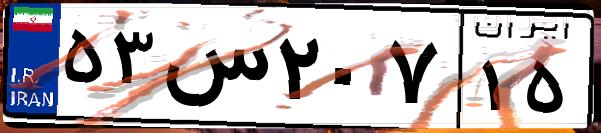0: (330, 28, 385, 110)
1: (475, 38, 525, 113)
2: (270, 28, 330, 110)
3: (110, 28, 158, 98)
5: (57, 26, 110, 100), (525, 38, 570, 115)
7: (385, 28, 445, 110)
س: (158, 20, 270, 120)
